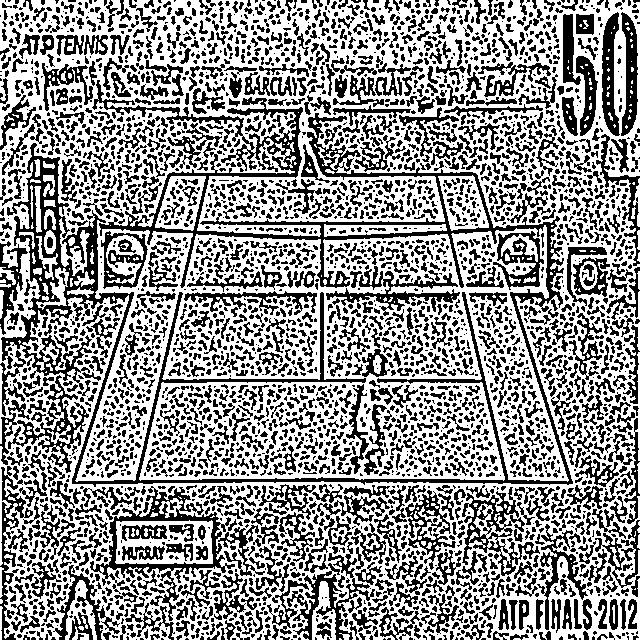left side: (73, 175, 208, 483), (436, 175, 571, 482)
player: (350, 353, 398, 479), (293, 99, 327, 188)
